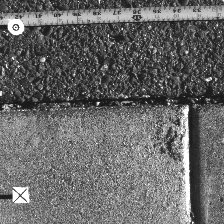circle: (7, 18, 25, 36)
crack: (1, 93, 223, 112)
square: (12, 186, 29, 204)
